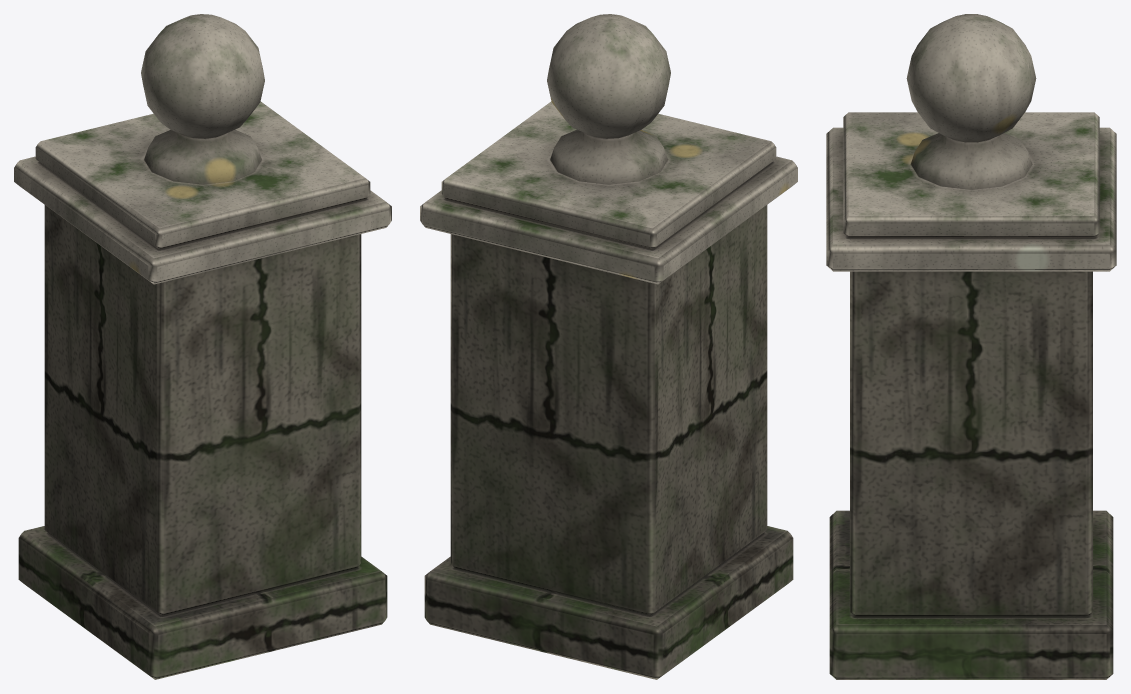
The model's file is GardenWallPier.fbx.
3 views of the same model, side by side, from view 1: azimuth 30°, elevation 25°; view 2: azimuth 150°, elevation 25°; view 3: azimuth 270°, elevation 25° (orthographic). The views are drawn at different scales.
Parts seen in each view (by area): view 1: GardenWallPier; view 2: GardenWallPier; view 3: GardenWallPier.
Part boxes in pixels (x1,y1,x2,y2): GardenWallPier: [14, 14, 391, 679]; GardenWallPier: [420, 14, 797, 679]; GardenWallPier: [826, 14, 1116, 679].
Bounding box in the file's own units: 215 × 493 × 215.
